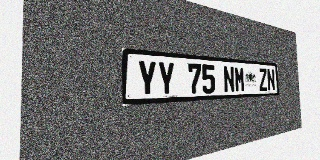5: (202, 64, 215, 94)
7: (187, 63, 202, 94)
M: (234, 66, 245, 92)
N: (223, 66, 235, 93), (267, 69, 275, 91)
Y: (137, 60, 157, 97), (157, 61, 175, 96)
Z: (258, 68, 268, 91)
